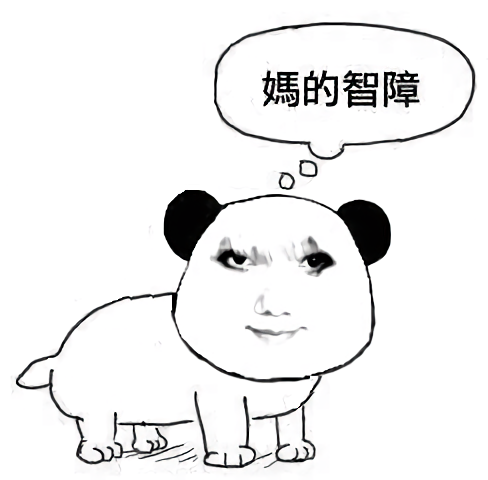dragon: (212, 240, 339, 345)
